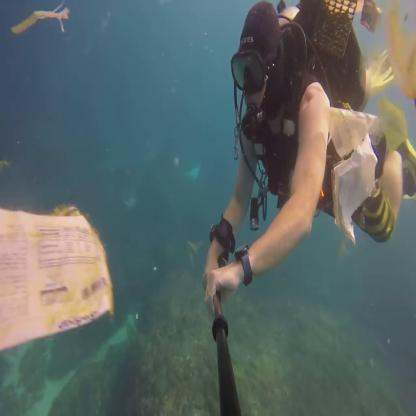Rác: (3, 212, 115, 322), (333, 158, 377, 218), (12, 12, 70, 32)
